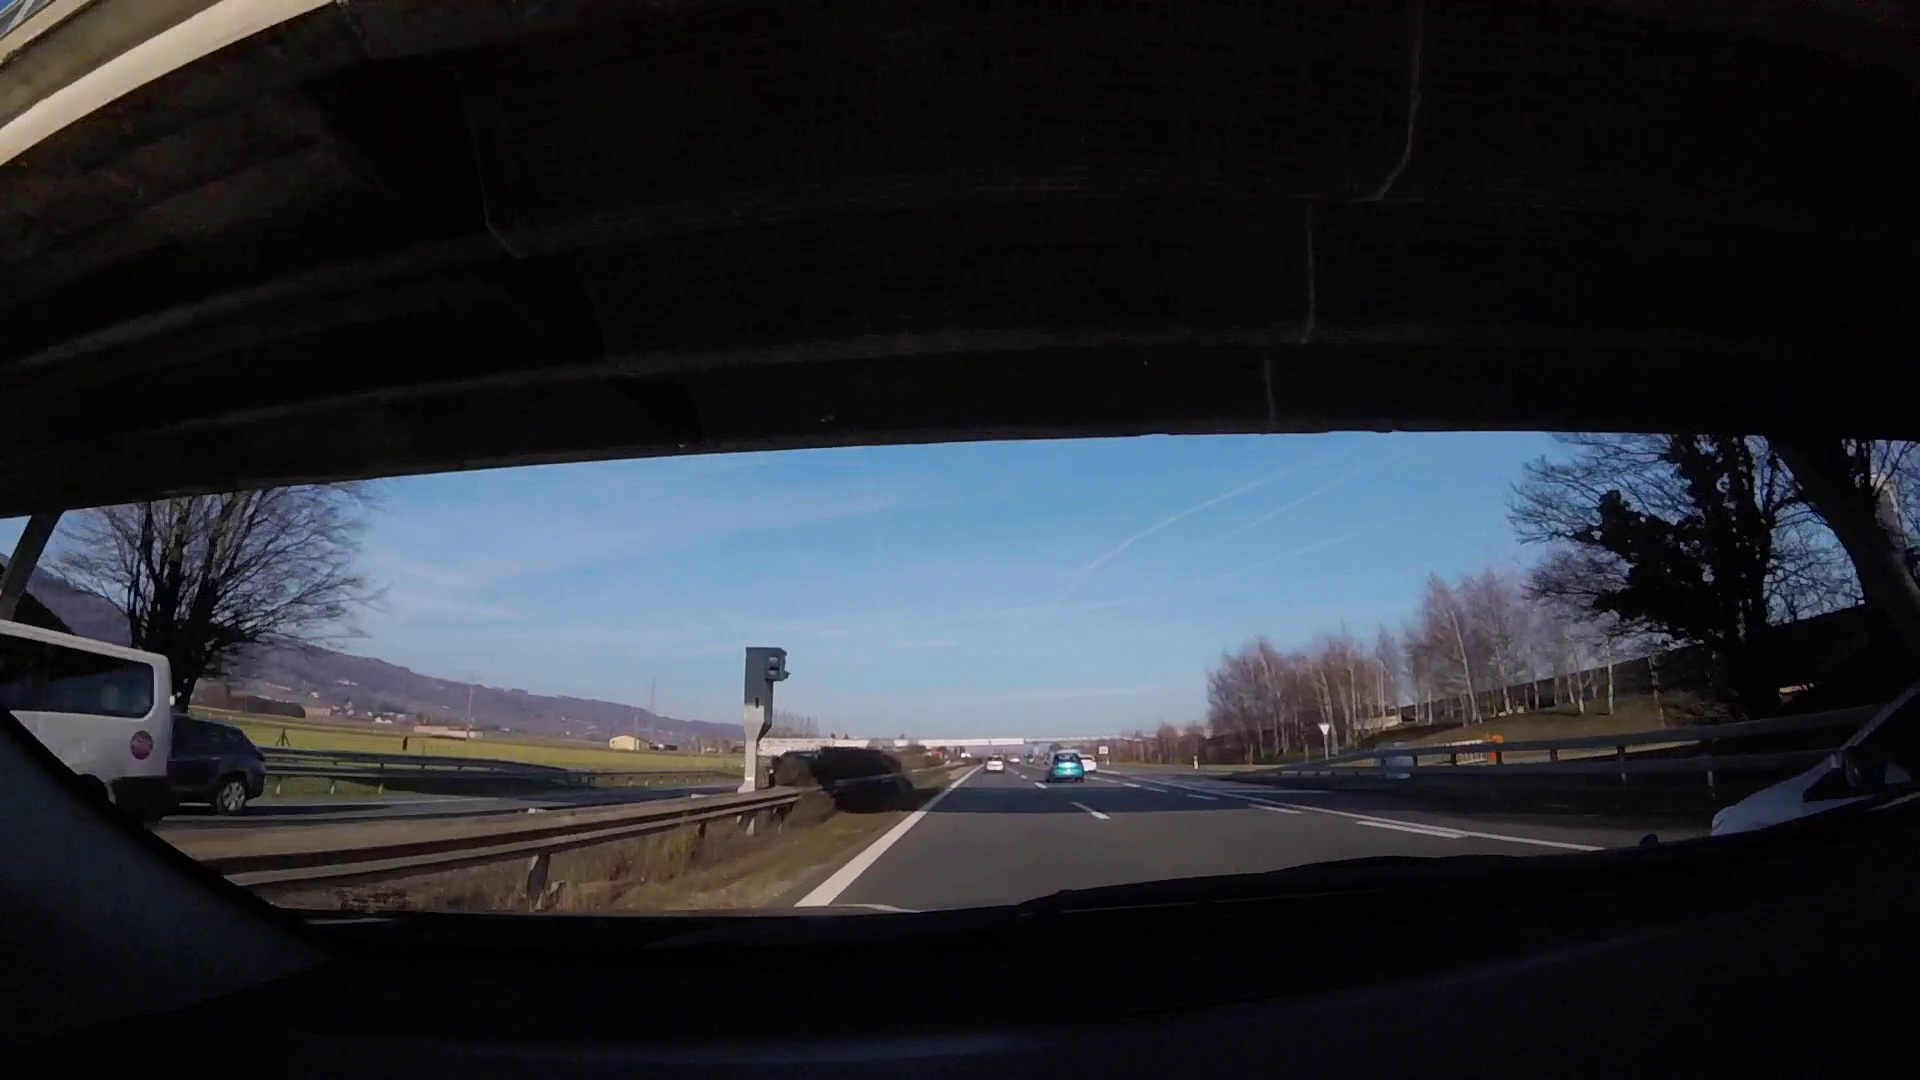radar: (742, 644, 793, 783)
